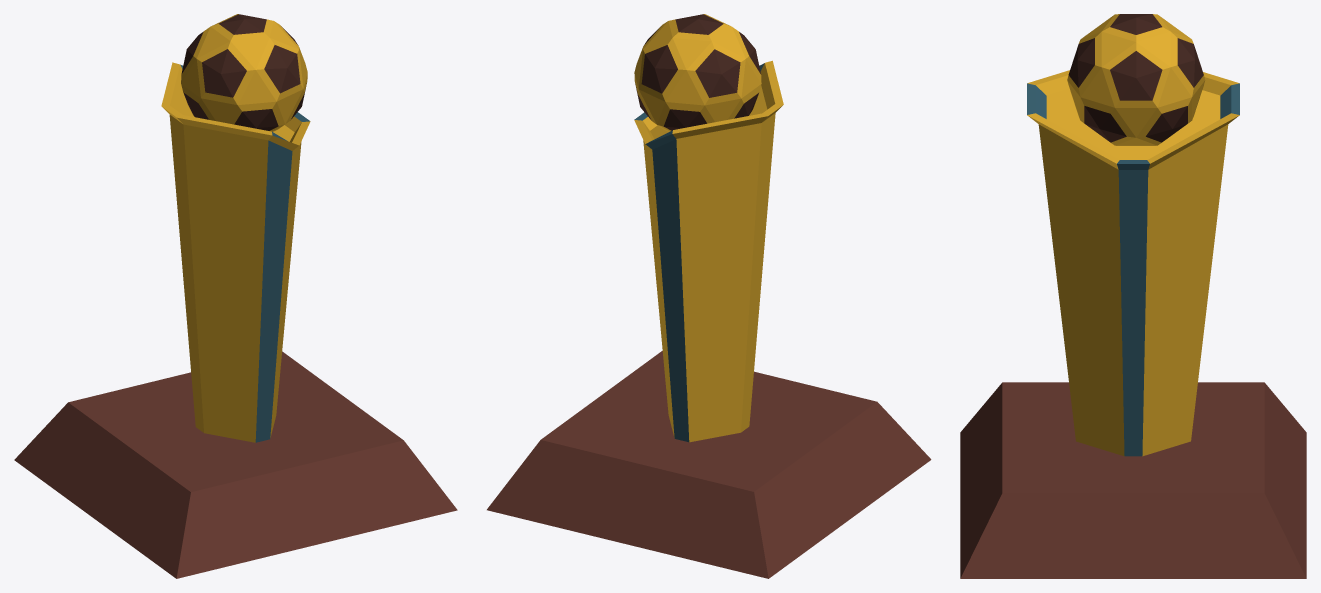
The model's file is trofeo.fbx.
3 views of the same model, side by side, from view 1: azimuth 30°, elevation 25°; view 2: azimuth 150°, elevation 25°; view 3: azimuth 270°, elevation 25° (orthographic). The views are drawn at different scales.
Parts seen in each view (by area): view 1: Plane.005; view 2: Plane.005; view 3: Plane.005.
Boxes of the visible parts, x1=… form: Plane.005: x1=14, y1=14, x2=457, y2=578; Plane.005: x1=487, y1=14, x2=931, y2=578; Plane.005: x1=960, y1=14, x2=1306, y2=578.
Size of the model in its own units: 57.76 by 90.76 by 57.76.
